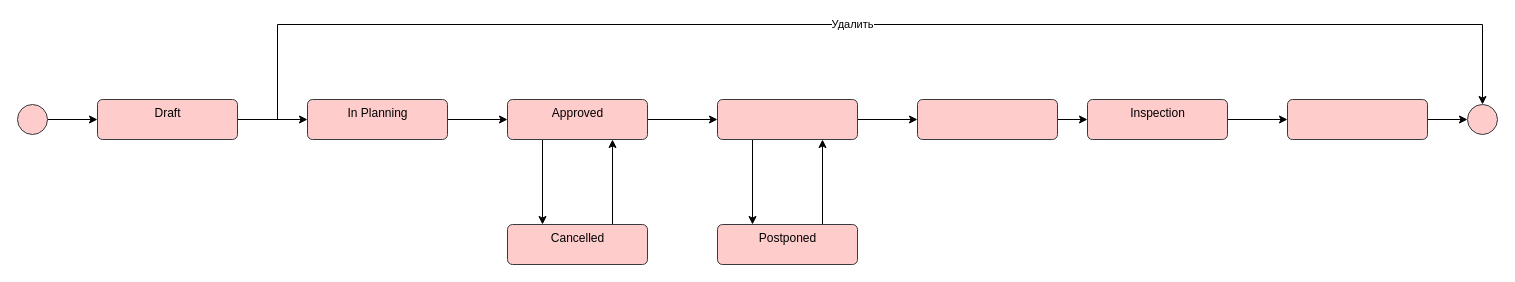
This 1515x282 diagram has some shape labels left out. The centre of each missing label's shape, as x and y in pixels:
"Closed" goes at point 1357,119.
"Finished" goes at point 987,119.
"In Progress" goes at point 787,119.
